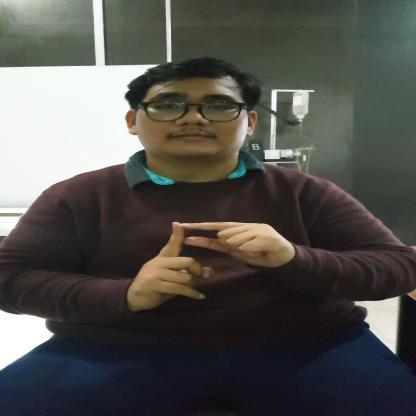P: (129, 220, 290, 312)
